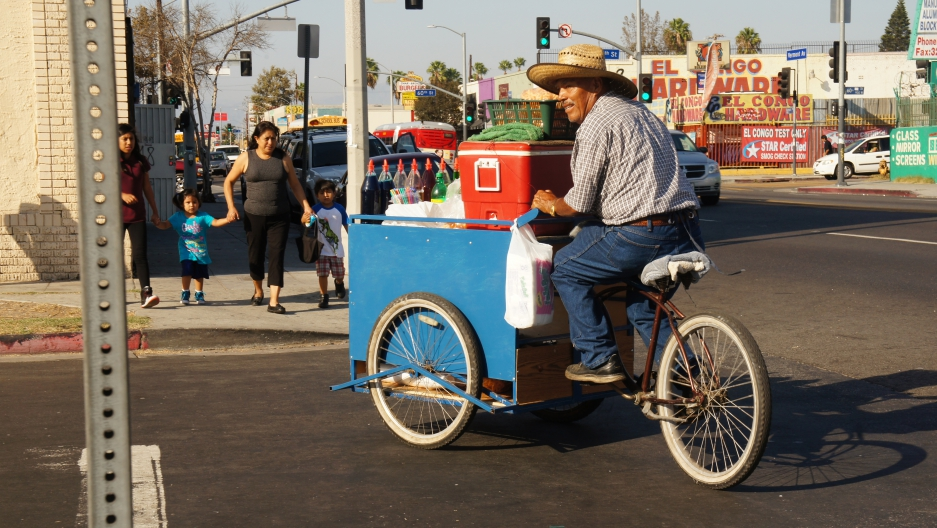cart: (349, 138, 562, 430)
person: (539, 43, 690, 380), (229, 124, 296, 315), (119, 127, 161, 310), (169, 189, 212, 308), (308, 181, 345, 309)
pole: (343, 1, 370, 223), (838, 3, 844, 185)
traffic light: (827, 41, 845, 81), (535, 17, 552, 50), (778, 67, 793, 98), (638, 72, 652, 103), (240, 52, 252, 76)
tree branches: (141, 14, 196, 78)
